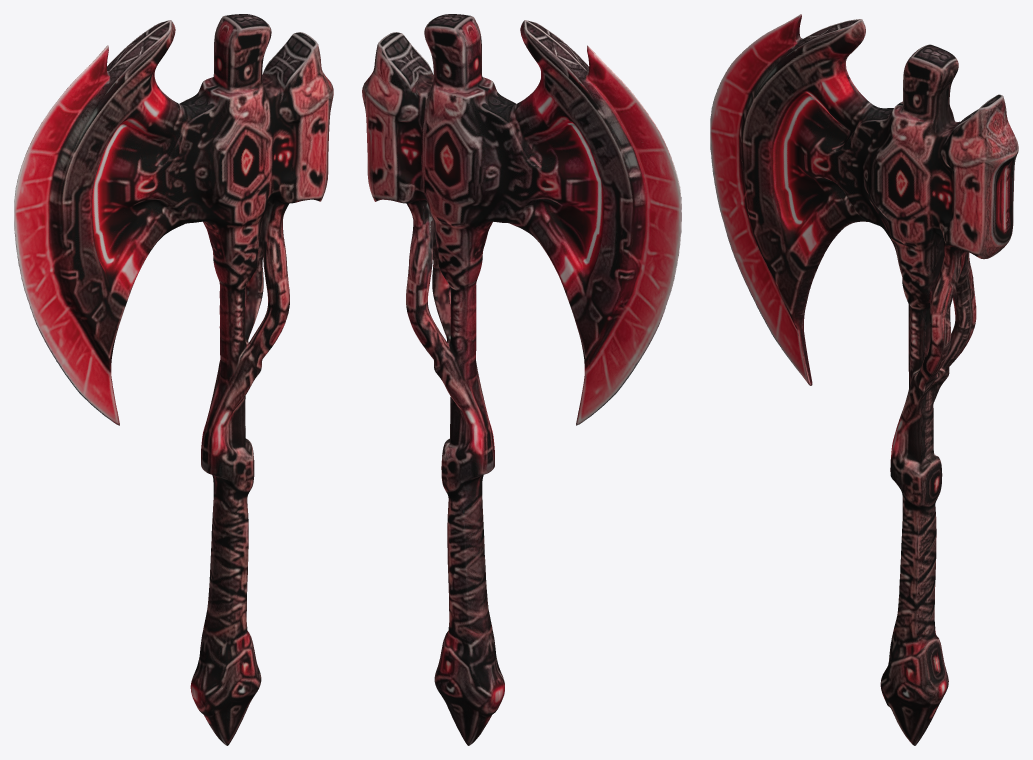
Rendered from Machado drakos.glb.
3 renders of one model, left to right at view 1: azimuth 30°, elevation 25°; view 2: azimuth 150°, elevation 25°; view 3: azimuth 330°, elevation 25°, orthographic. The views are drawn at different scales.
Bounding box in the file's own units: 0.8459 × 1.9 × 0.1723.
Materials: 1 (1 with a texture image).
